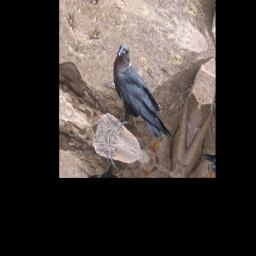Crow: (94, 41, 189, 169)
